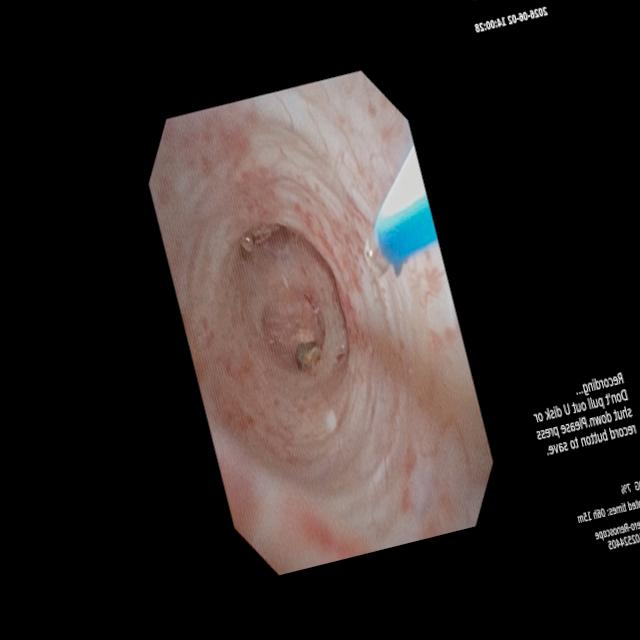laser-fibre: (363, 233, 389, 277)
stone-new: (296, 340, 321, 369)
